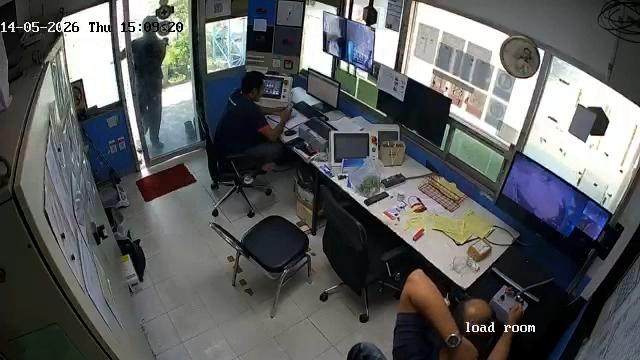Head: (451, 291, 497, 344), (239, 70, 266, 103)
People: (391, 264, 524, 360), (214, 69, 292, 177)
Phone: (282, 101, 295, 111)
